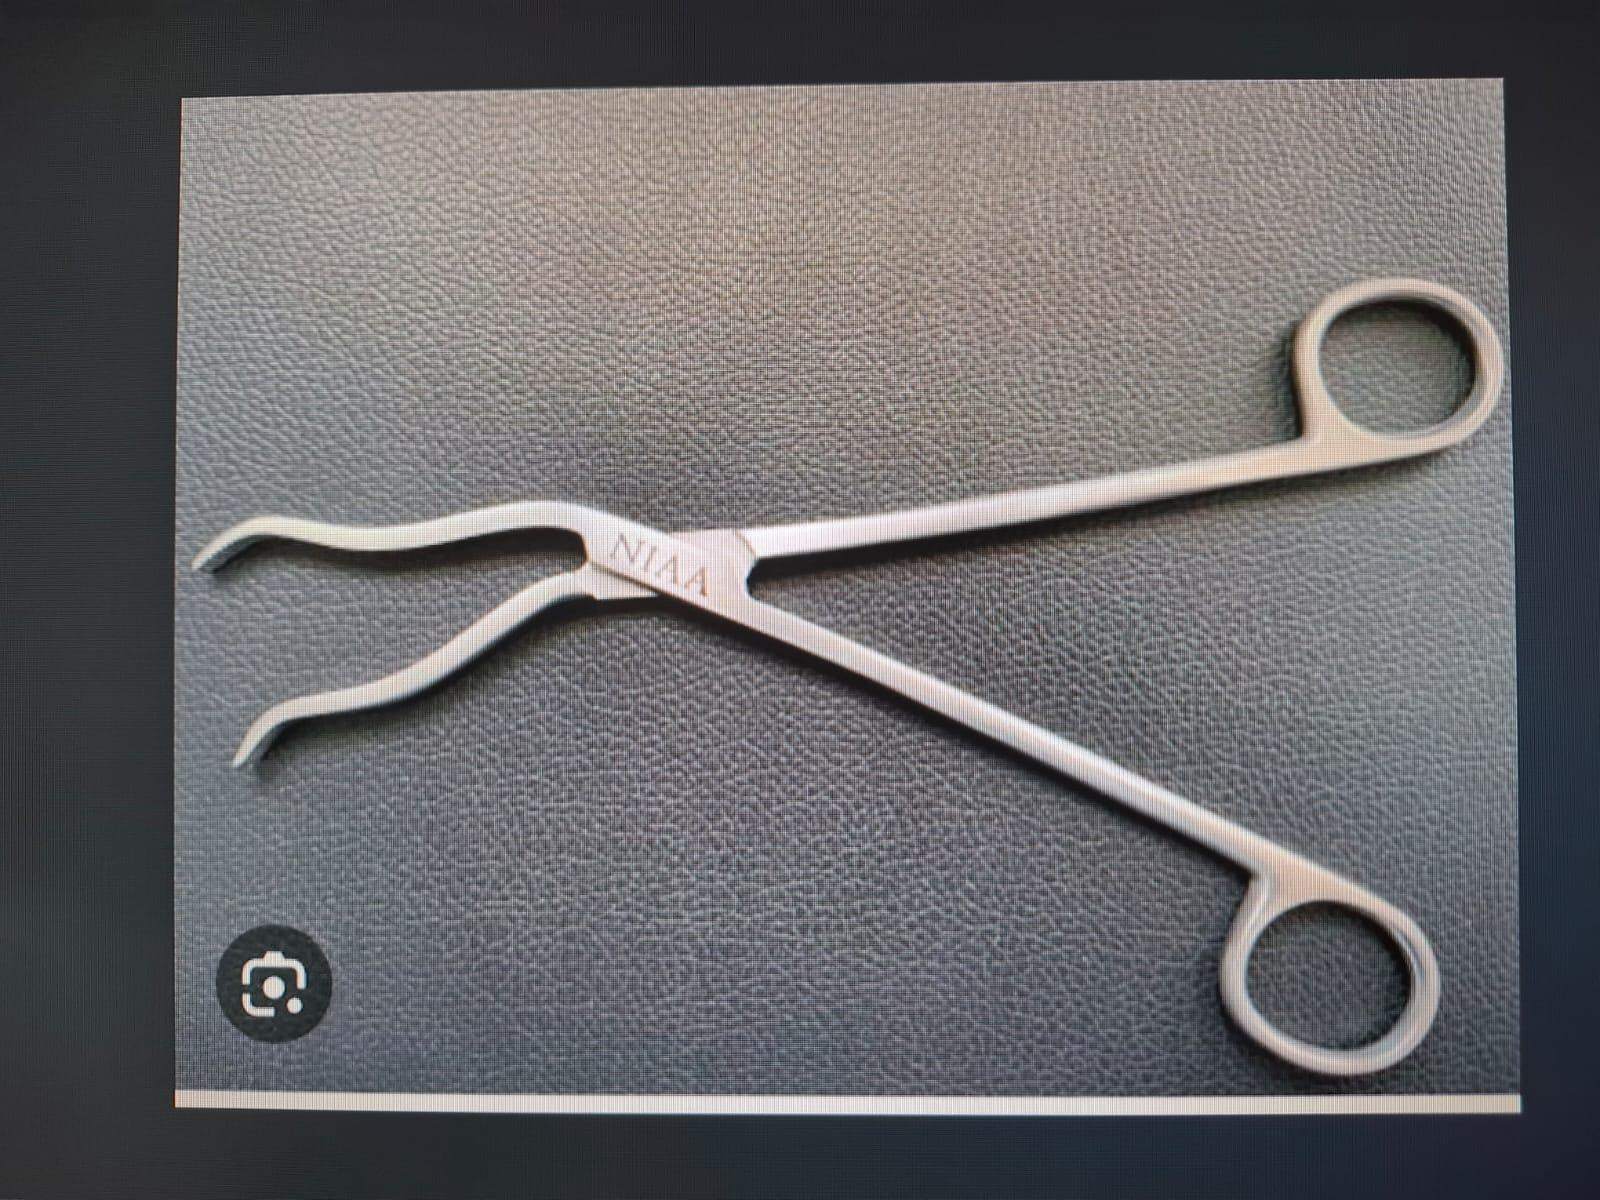Cheatle Forceps: (192, 268, 1506, 1124)
